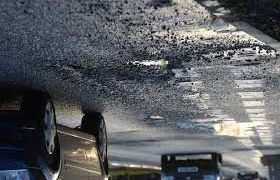pothole: (90, 56, 184, 85)
